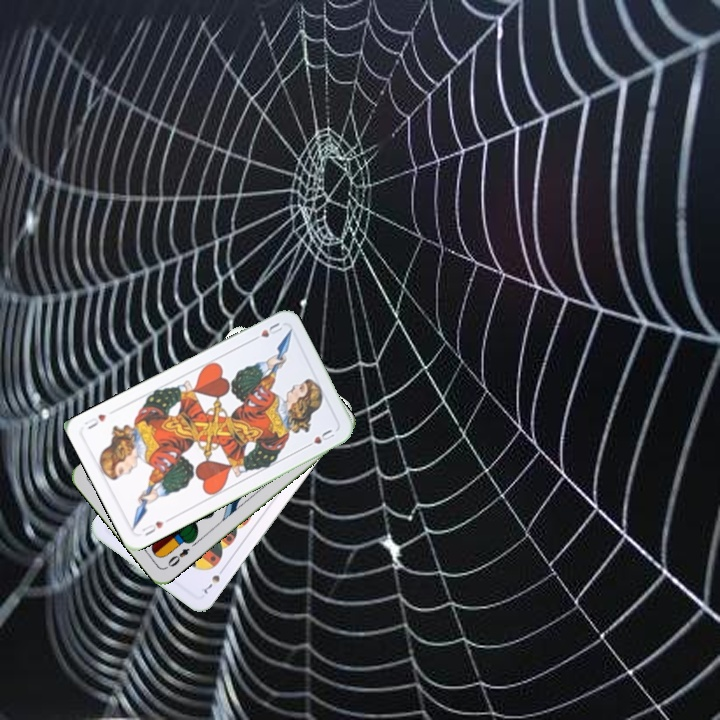EO: (164, 544, 192, 570)
HU: (247, 318, 285, 344), (137, 517, 167, 538)
S7: (197, 563, 228, 598)
